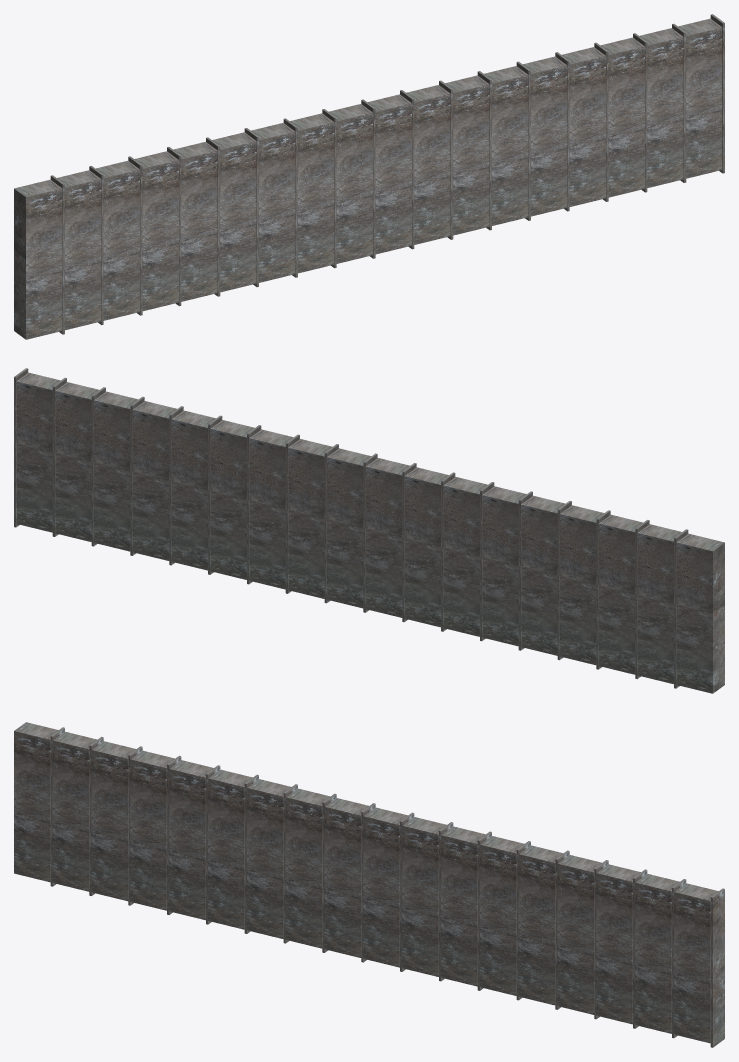
File: mur2.glb
3 renders of one model, top to bottom at view 1: azimuth 30°, elevation 25°; view 2: azimuth 150°, elevation 25°; view 3: azimuth 330°, elevation 25°, orthographic.
Parts seen in each view (by area): view 1: Cube.002; view 2: Cube.002; view 3: Cube.002.
Part boxes in pixels (x1,y1,x2,y2): Cube.002: [14, 14, 724, 339]; Cube.002: [14, 368, 724, 693]; Cube.002: [14, 722, 724, 1047].
Size of the model in its own units: 38.48 by 7.9 by 1.15.
Materials: 1 (1 with a texture image).
